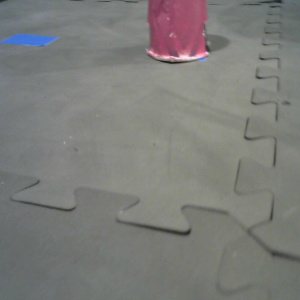Right: (143, 1, 212, 62)
